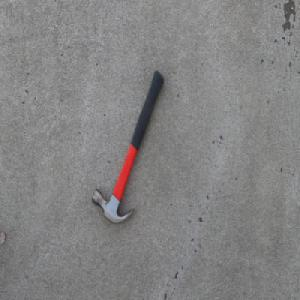Hammer: (91, 68, 164, 224)
